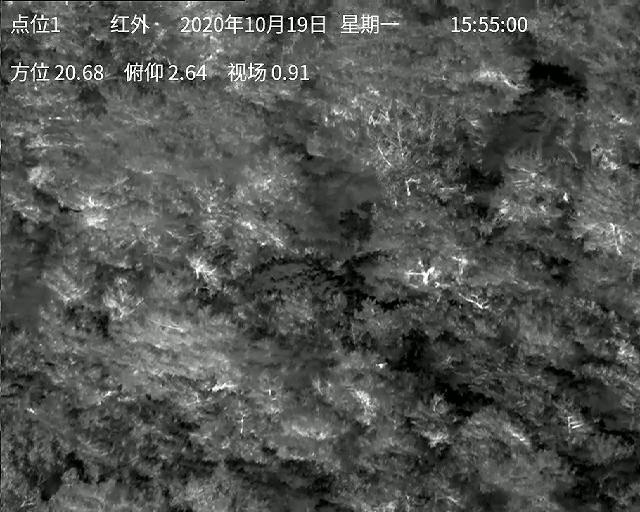uav: (374, 361, 389, 371)
